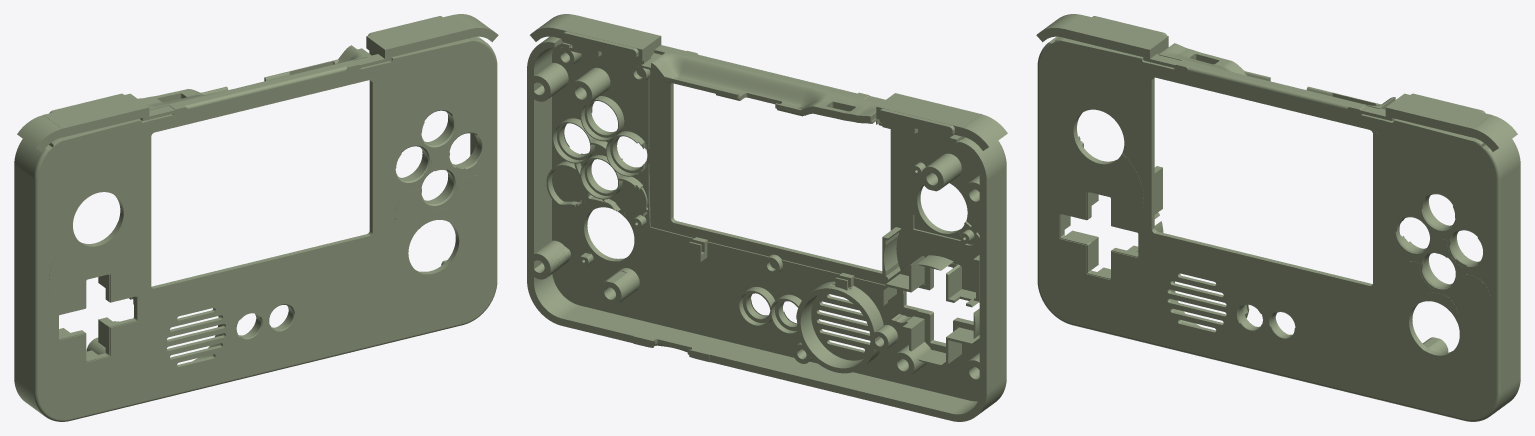
Rendered from front-shell.glb.
The picture shows the model from 3 angles, left to right: view 1: azimuth 30°, elevation 25°; view 2: azimuth 150°, elevation 25°; view 3: azimuth 330°, elevation 25°; orthographic projection.
Parts seen in each view (by area): view 1: front-merged.ply; view 2: front-merged.ply; view 3: front-merged.ply.
Boxes of the visible parts, x1,y1,x2,y2 form: front-merged.ply: (14,14,498,421); front-merged.ply: (527,14,1007,421); front-merged.ply: (1036,14,1520,421).
Size of the model in its own units: 157 by 95.75 by 12.8.
